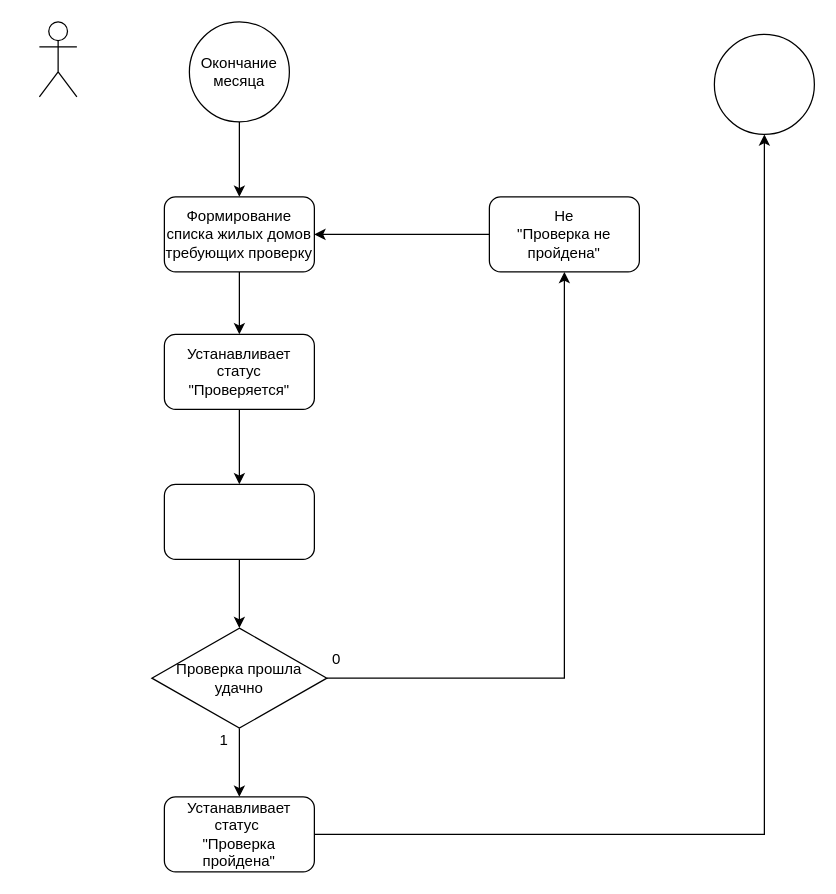
Image size: 836x894. Some labels were removed from this diagram. The shapes that lost their labels are listed below. From the top down, each one's centre as x and y in pixels, then its label:
At point (57, 59): "Инспектор".
At point (763, 83): "Окончание проверки".
At point (238, 521): "Инспектор проводит проверку".
